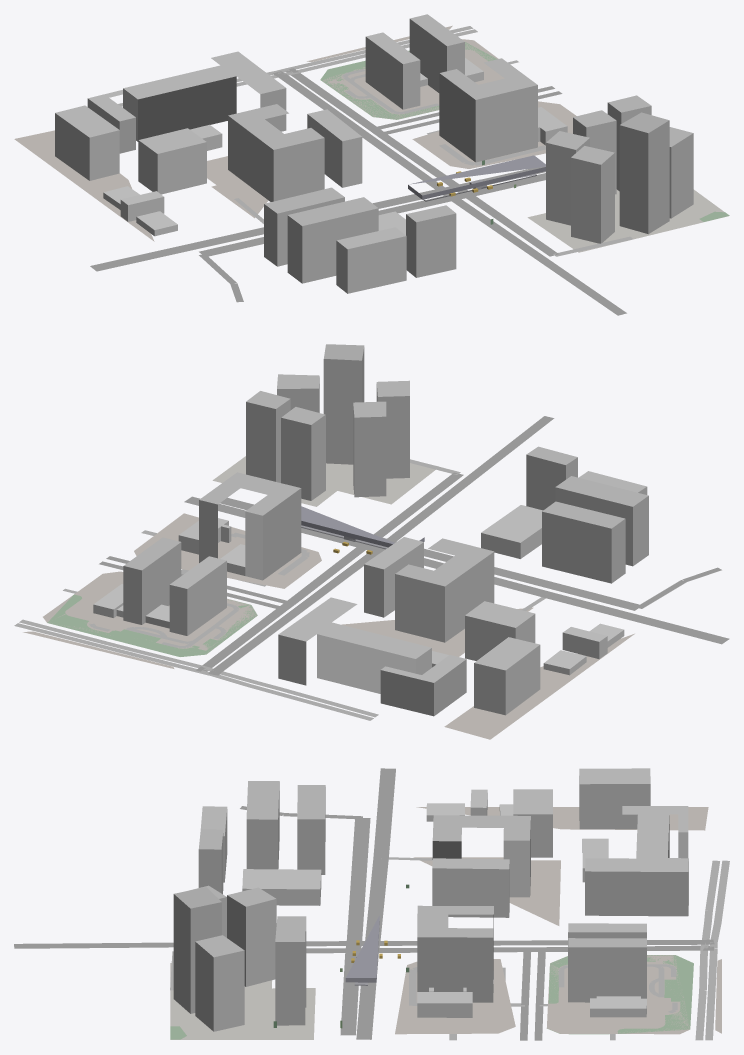
3 views of the same model, one above another, from view 1: azimuth 30°, elevation 25°; view 2: azimuth 150°, elevation 25°; view 3: azimuth 270°, elevation 25° (orthographic). The views are drawn at different scales.
Size of the model in its own units: 582 by 106 by 649.
